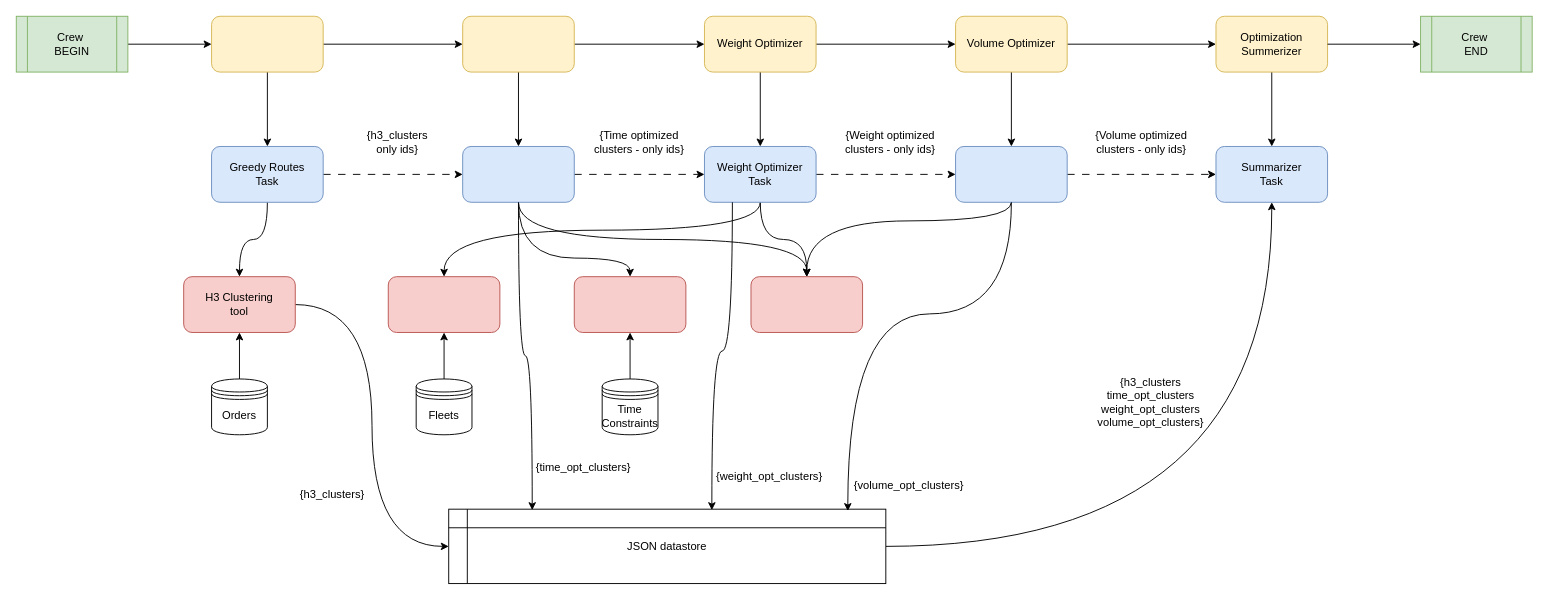
Some shapes in this 1548 by 600 pixel diagram are drawn without their labels. Here are the shapes that lost their labels. From the top down, the centre of each, then its label:
[267,43]: Greedy Fleet Manager
[518,43]: Time Optimizer
[518,174]: Time Optimizer Task
[1011,174]: Volume Optimizer Task
[443,304]: Fleet Details tool
[629,304]: Time Constraints tool
[806,304]: Enrich Cluster tool
